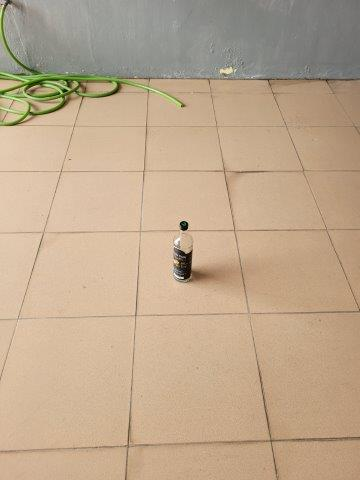botolkaca: (172, 221, 193, 283)
